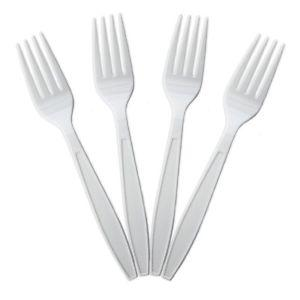Fork: (162, 33, 286, 280), (15, 31, 137, 280), (91, 13, 149, 277), (151, 13, 209, 277)
